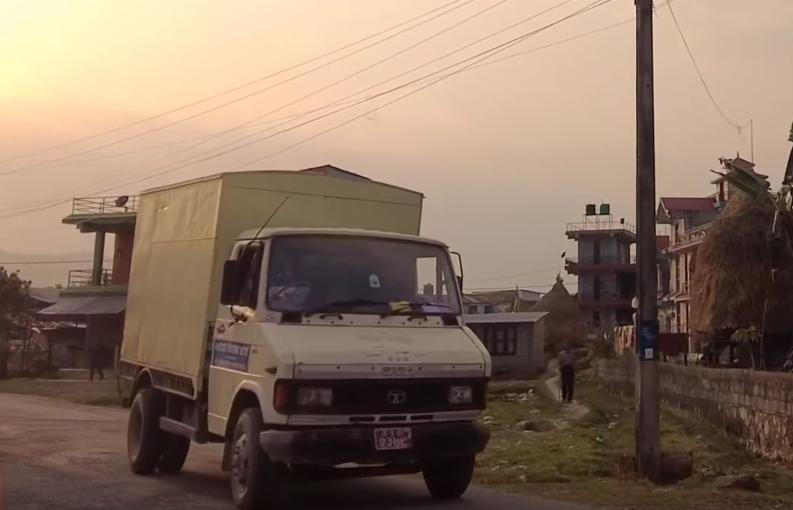mini_truck: (112, 155, 507, 510)
